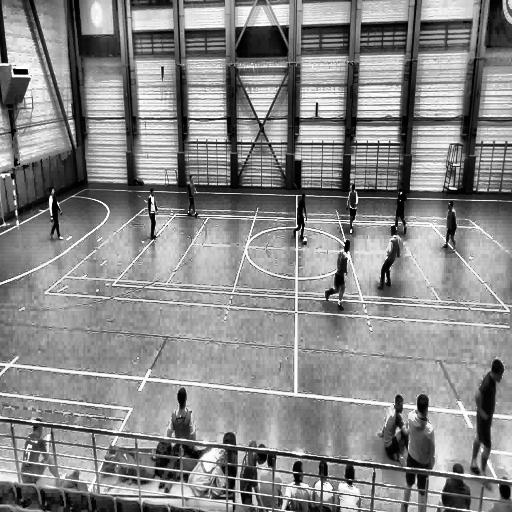ball: (302, 235, 307, 245)
player: (400, 395, 434, 510), (470, 359, 503, 474), (325, 240, 349, 310), (378, 224, 400, 289), (47, 186, 64, 241), (441, 198, 457, 251), (346, 184, 359, 237), (394, 186, 408, 234), (293, 190, 306, 240), (147, 187, 158, 238), (187, 174, 199, 216)
